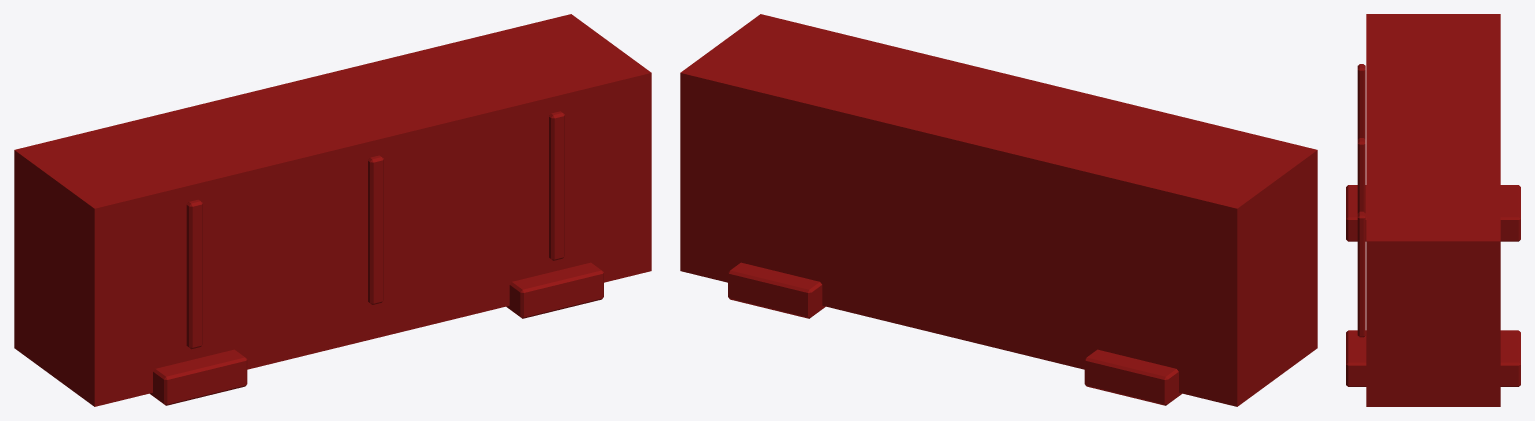
Rendered from PlasticBarrierOrange.fbx.
3 views of the same model, side by side, from view 1: azimuth 30°, elevation 25°; view 2: azimuth 150°, elevation 25°; view 3: azimuth 270°, elevation 25° (orthographic). The views are drawn at different scales.
Parts seen in each view (by area): view 1: PlasticBarrierOrange; view 2: PlasticBarrierOrange; view 3: PlasticBarrierOrange.
Part boxes in pixels (left/top/right/bottom): PlasticBarrierOrange: left=14, top=14, right=651, bottom=406; PlasticBarrierOrange: left=680, top=14, right=1317, bottom=406; PlasticBarrierOrange: left=1346, top=14, right=1520, bottom=406.
Bounding box in the file's own units: 200 × 70 × 65.
1 material, 1 textured.
